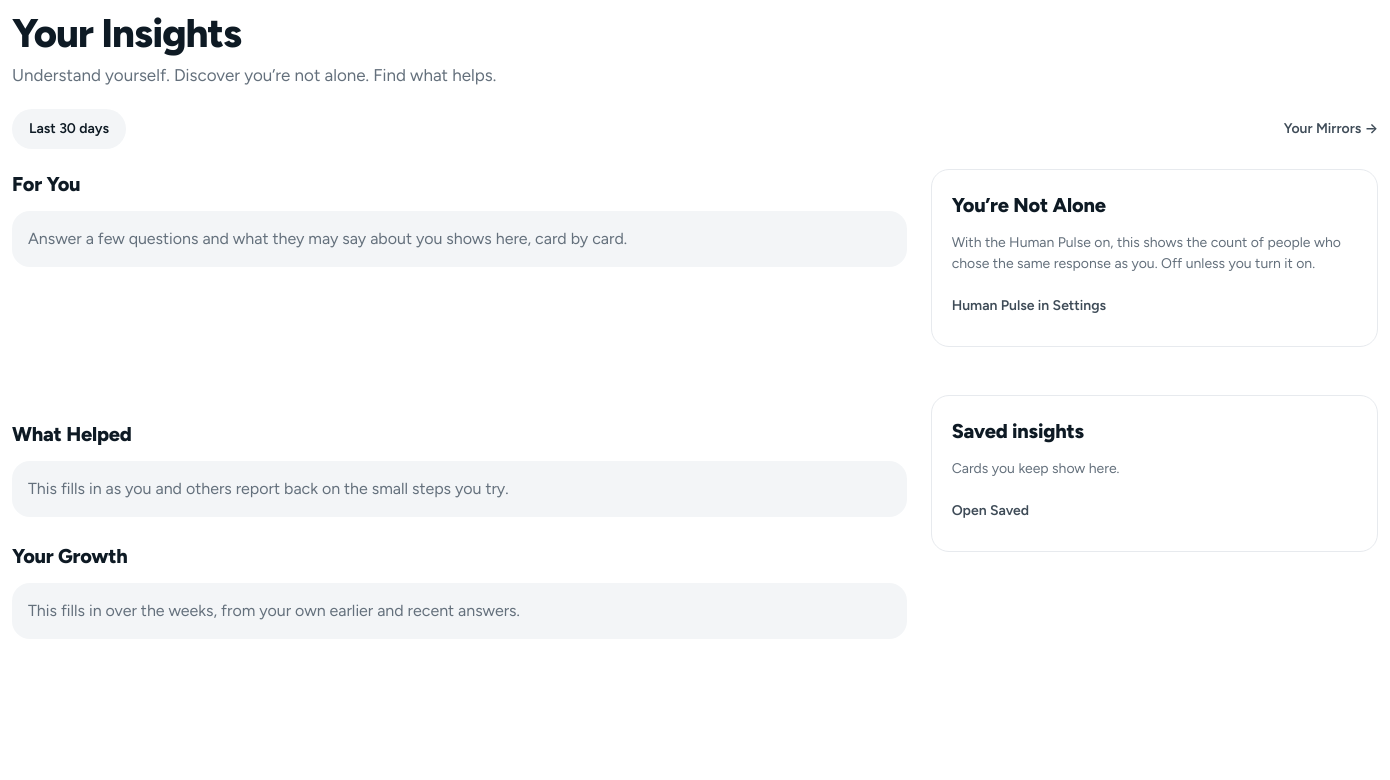
Insights › looks back 30 days when asked
Click the button "Last 30 days". click: click(69, 129)
box: [12, 109, 126, 149]
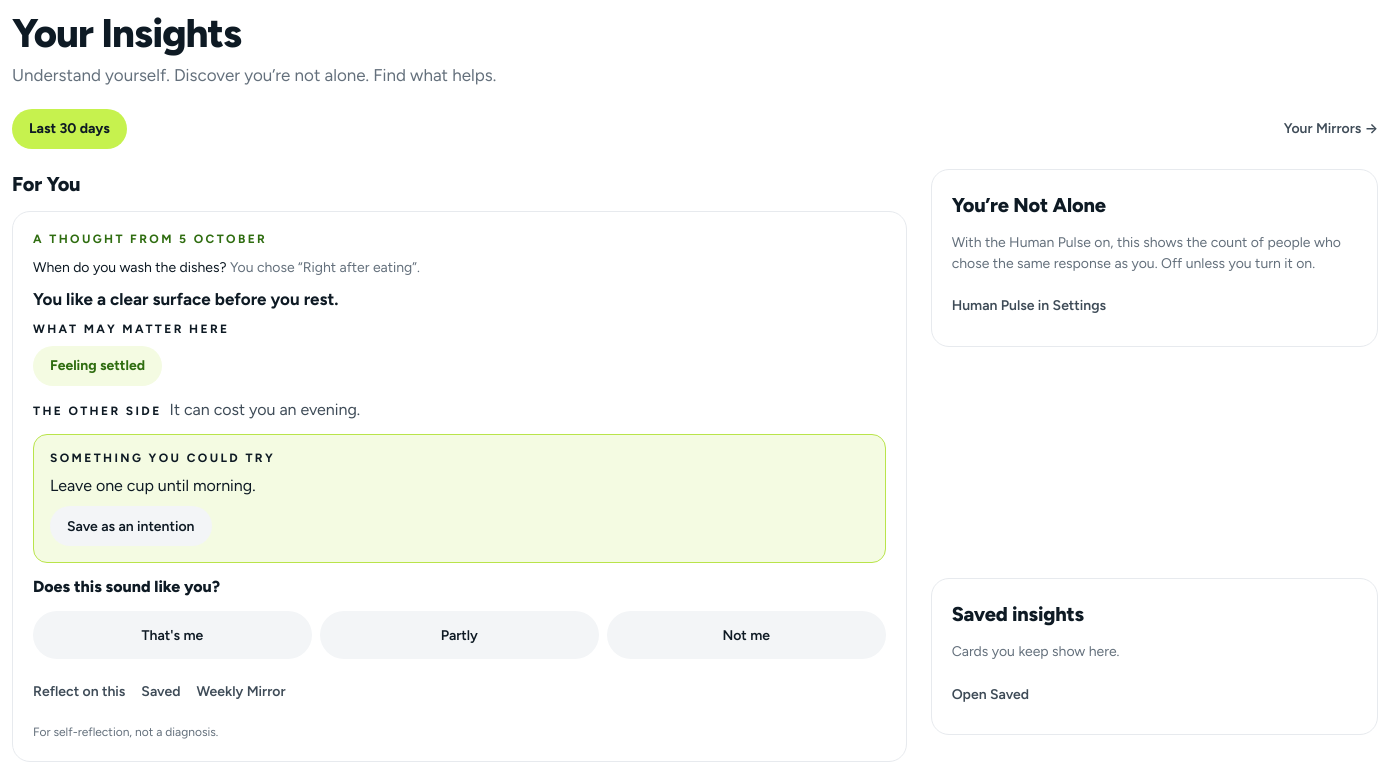
Check: the element that starts with "A thought from 5 October" is shown, box [33, 232, 267, 246]
